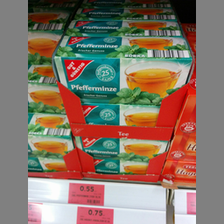tea: (53, 35, 192, 104), (75, 136, 167, 178), (77, 100, 160, 126)
